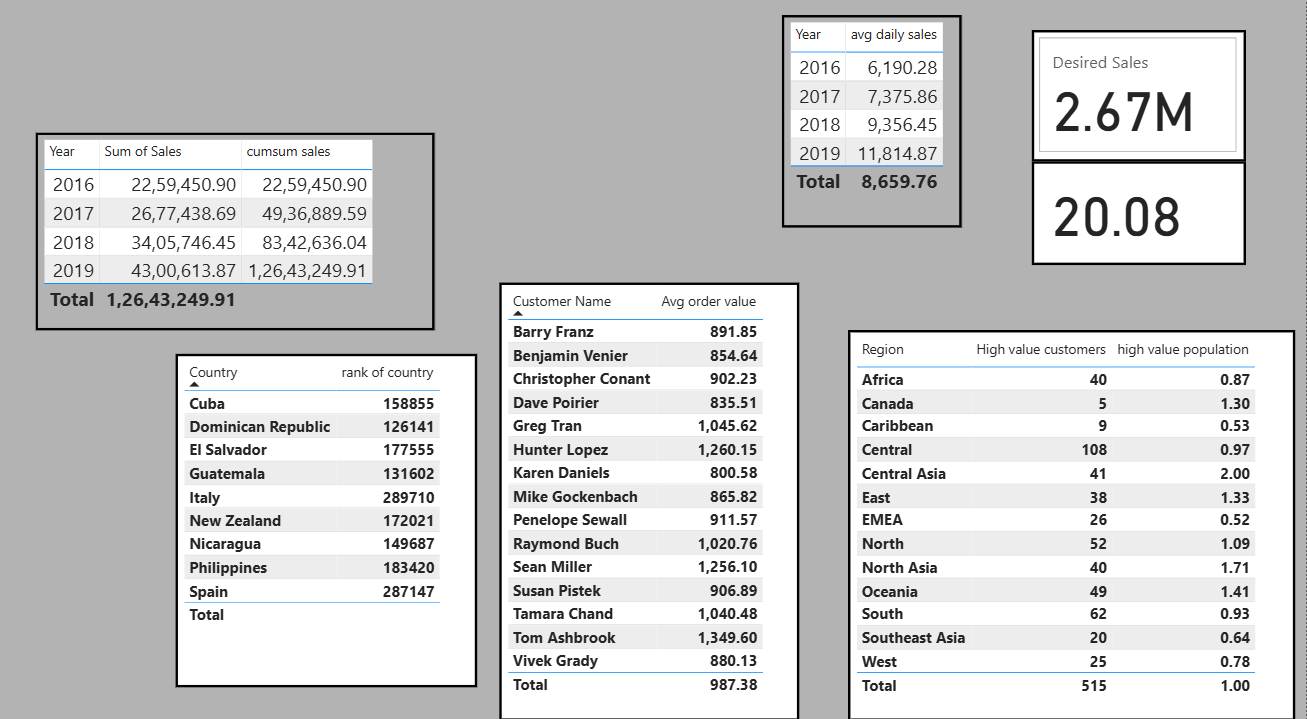

Layout of this report page (visuals, bound fields, positions):
{"tool":"powerbi","page":{"name":"Page 11","canvas":[1280,720],"ordinal":11},"visuals":[{"type":"cardVisual","fields":{"Data":["Customer.Desired Sales"]},"box":[1071.9,29.9,209.9,129],"z":0,"group":"g1"},{"type":"tableEx","fields":{"Values":["Orders.Region","Table.High value customers","Table.high value population"]},"box":[831,337.8,437.6,382],"z":0},{"type":"group","id":"g1","title":"Group 1","box":[1071.9,29.9,208.1,229.5],"z":1000},{"type":"cardVisual","fields":{"Data":["Table.Desired sales 2018"]},"box":[1071.9,158.9,209.9,101.5],"z":1000,"group":"g1"},{"type":"tableEx","fields":{"Values":["Customer.Customer Name","Table.Avg order value"]},"box":[490.3,290.8,293.6,429],"z":2000},{"type":"tableEx","fields":{"Values":["Orders.Country","Table.rank of country"]},"box":[173.9,360.6,295.1,326.4],"z":3000},{"type":"tableEx","fields":{"Values":["Orders.Order Date.Variation.Date Hierarchy.Year","Sum(Orders.Sales)","Table.cumsum sales"]},"box":[37,144.1,403.4,190.7],"z":4000},{"type":"tableEx","fields":{"Values":["Orders.Order Date.Variation.Date Hierarchy.Year","Table.avg daily sales"]},"box":[868.6,31.6,181.1,229.2],"z":5000}]}

Visuals, with their boxes in screenshot pixels (x1, y1, x2, y2), scaled from the page's 1280x720 canvas onto the 1307x719 screenshot:
cardVisual - Customer.Desired Sales: left=1095, top=30, right=1306, bottom=159
tableEx - Orders.Region x Table.High value customers: left=849, top=337, right=1295, bottom=718
"Group 1" group: left=1095, top=30, right=1306, bottom=259
cardVisual - Table.Desired sales 2018: left=1095, top=159, right=1306, bottom=260
tableEx - Customer.Customer Name x Table.Avg order value: left=501, top=290, right=800, bottom=718
tableEx - Orders.Country x Table.rank of country: left=178, top=360, right=479, bottom=686
tableEx - Orders.Order Date.Variation.Date Hierarchy.Year x Sum(Orders.Sales): left=38, top=144, right=450, bottom=334
tableEx - Orders.Order Date.Variation.Date Hierarchy.Year x Table.avg daily sales: left=887, top=32, right=1072, bottom=260
